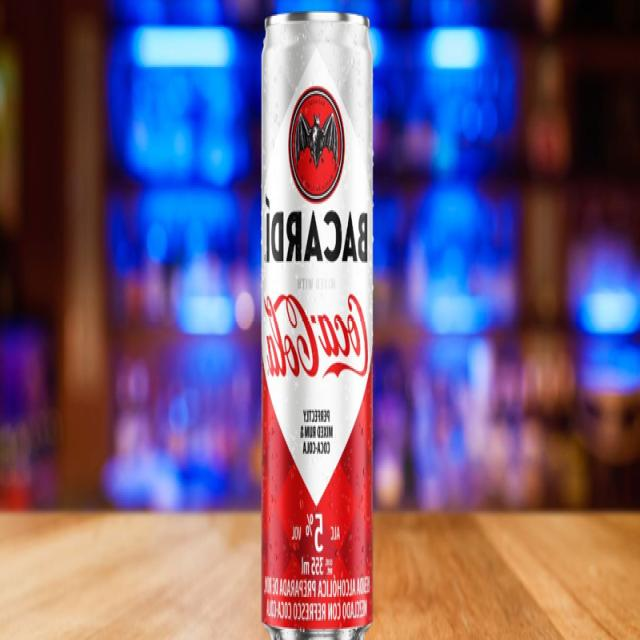coca cola: (265, 285, 371, 386)
